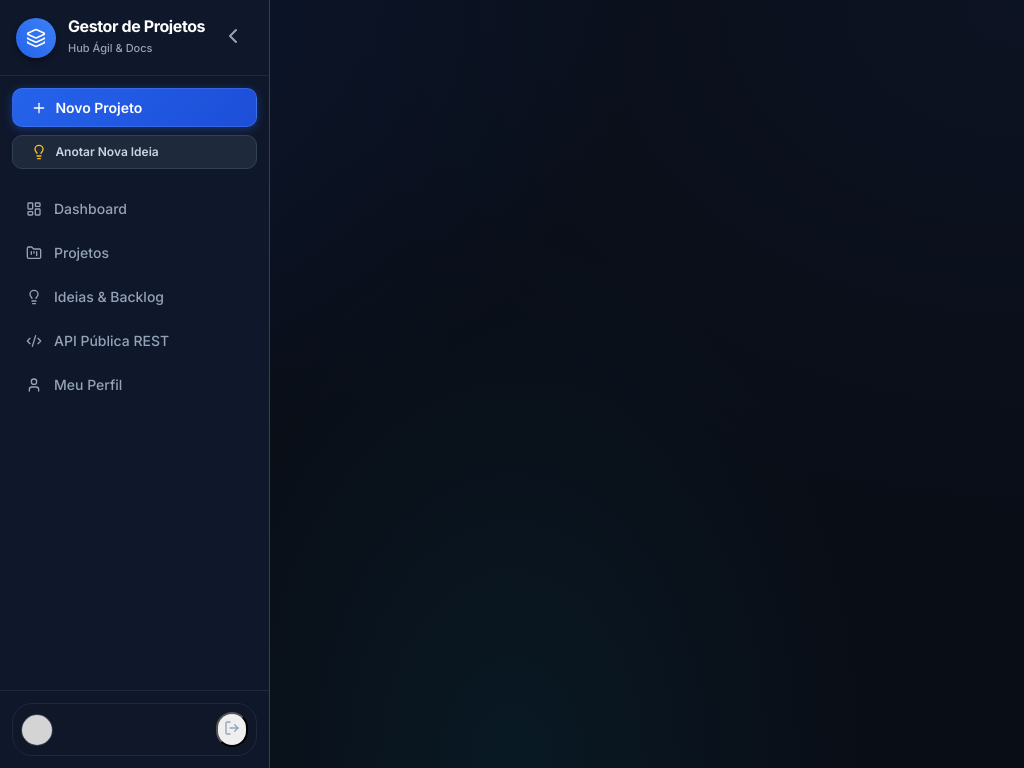
UI Components & Pages Tests › toggles collapsible sidebar and stores state in localStorage
Expected: the text "Hub Ágil & Docs" is shown, [68, 40, 152, 54]
// Click to collapse
What coordinates should you click on to do the following:
click the button named "Minimizar menu lateral"
I would click on:
 (233, 38)
Its box is [213, 16, 253, 59].
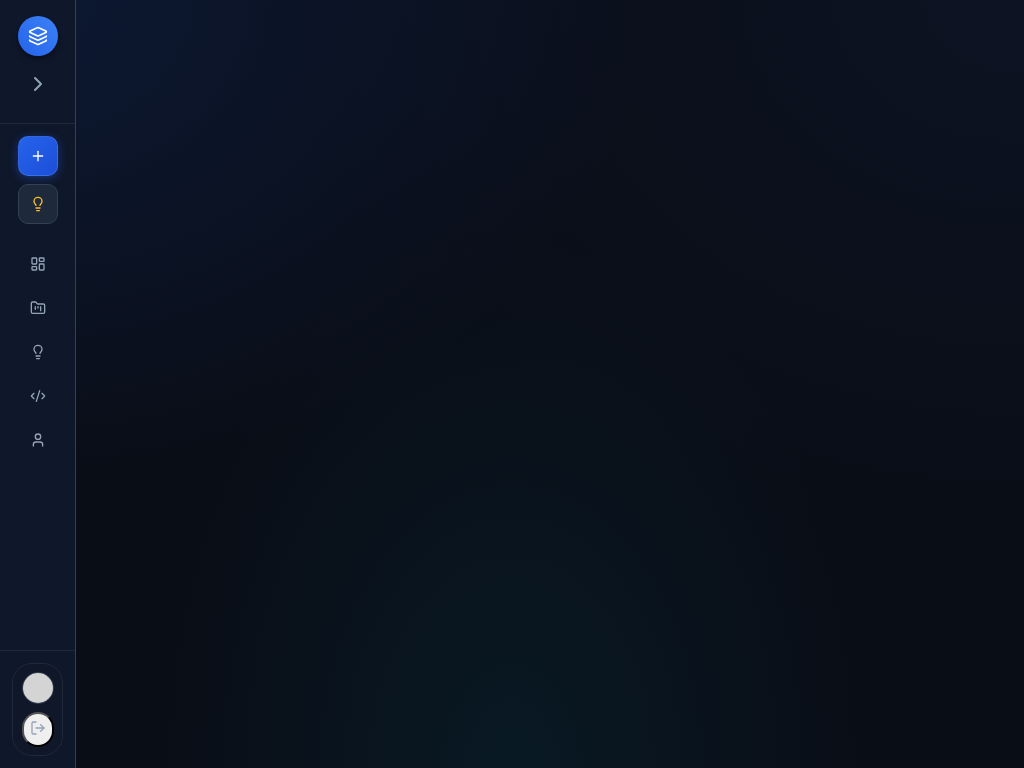
Expected: the text "Hub Ágil & Docs" is gone
// Click to expand again
What coordinates should you click on to do the following:
click the button named "Expandir menu lateral"
I would click on:
 (38, 86)
Its box is [18, 64, 58, 107].
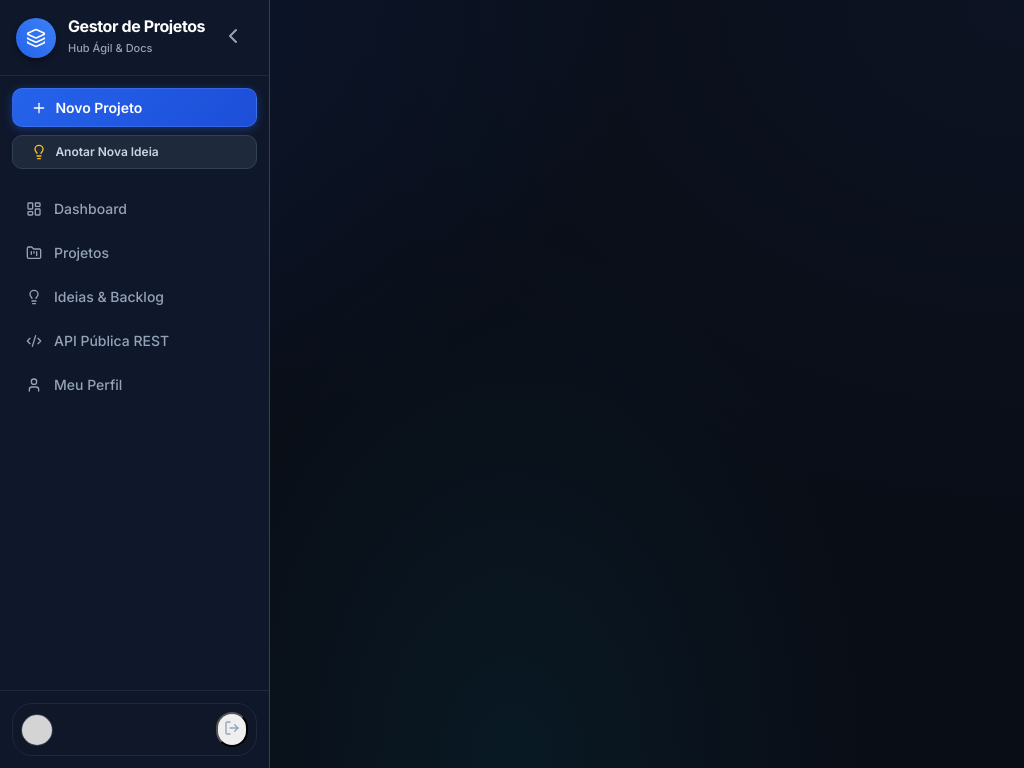
Expected: the text "Hub Ágil & Docs" is shown, [68, 40, 152, 54]
